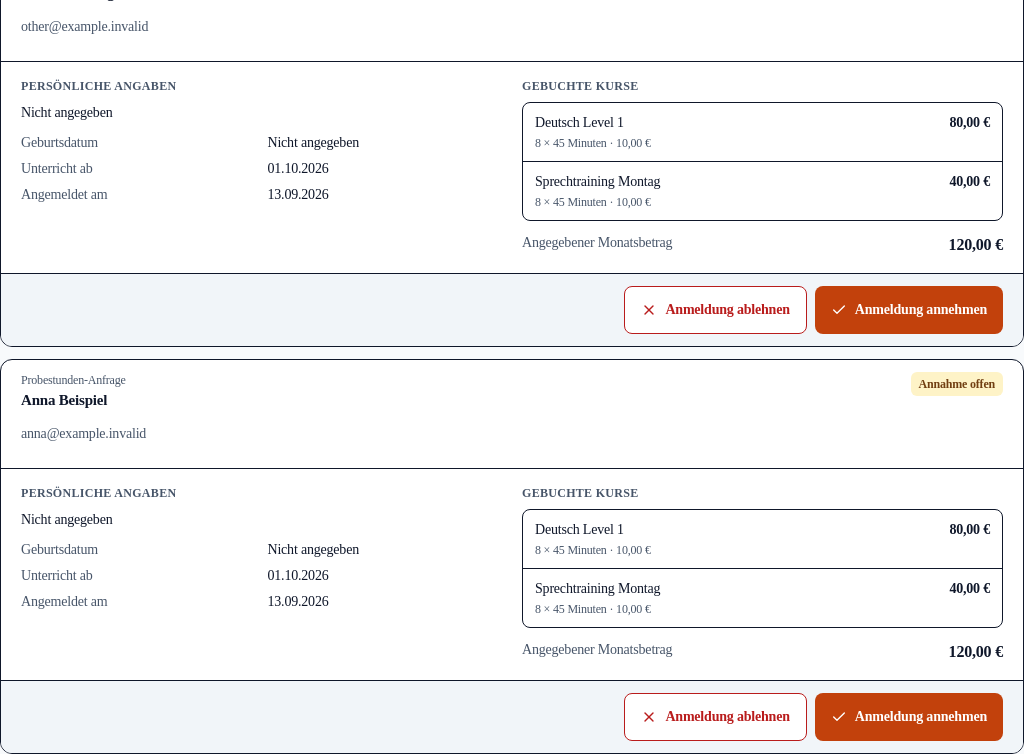
identifies the pending request and never declines when cancelled (trial=true)
(page scrolled)
What coordinates should you click on to do the following:
click the 2nd button "Anmeldung ablehnen"
I would click on:
 (716, 717)
Its box is 624,693 -> 807,741.
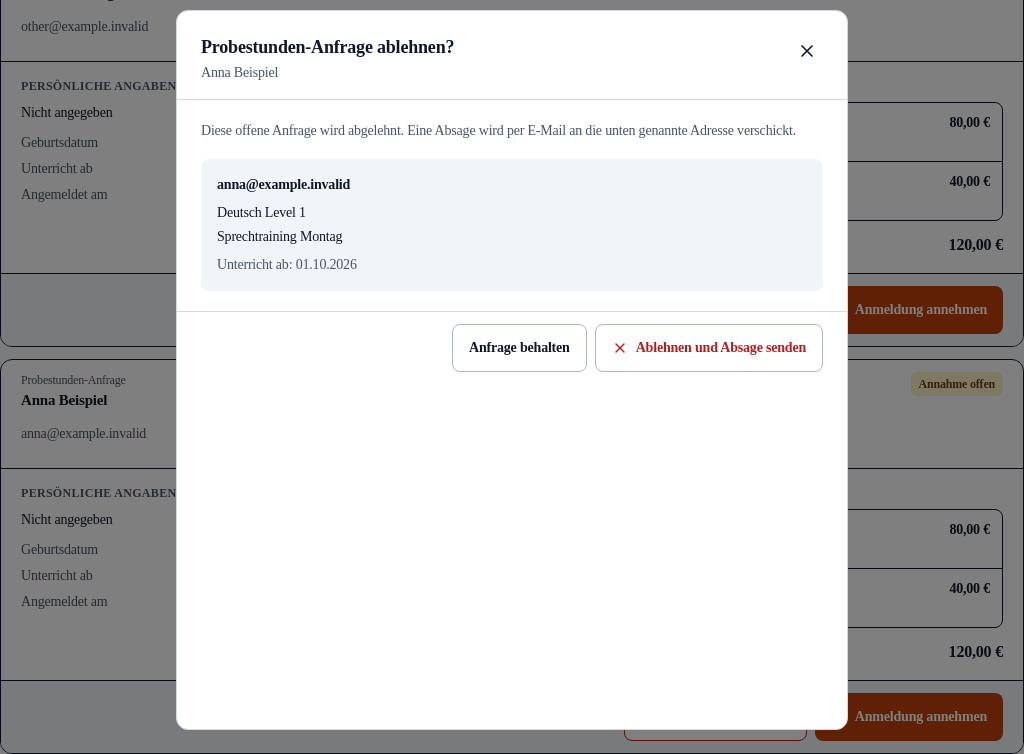
Check: the heading "Probestunden-Anfrage ablehnen?" is shown, box 201,33 -> 454,61
Check: the text "Anna Beispiel" is shown, box 201,65 -> 278,80
Check: the text "anna@example.invalid" is shown, box 217,177 -> 350,192
What coordinates should you click on to do the following:
click the button "Anfrage behalten"
I would click on:
 (519, 348)
Its box is 452,324 -> 587,372.
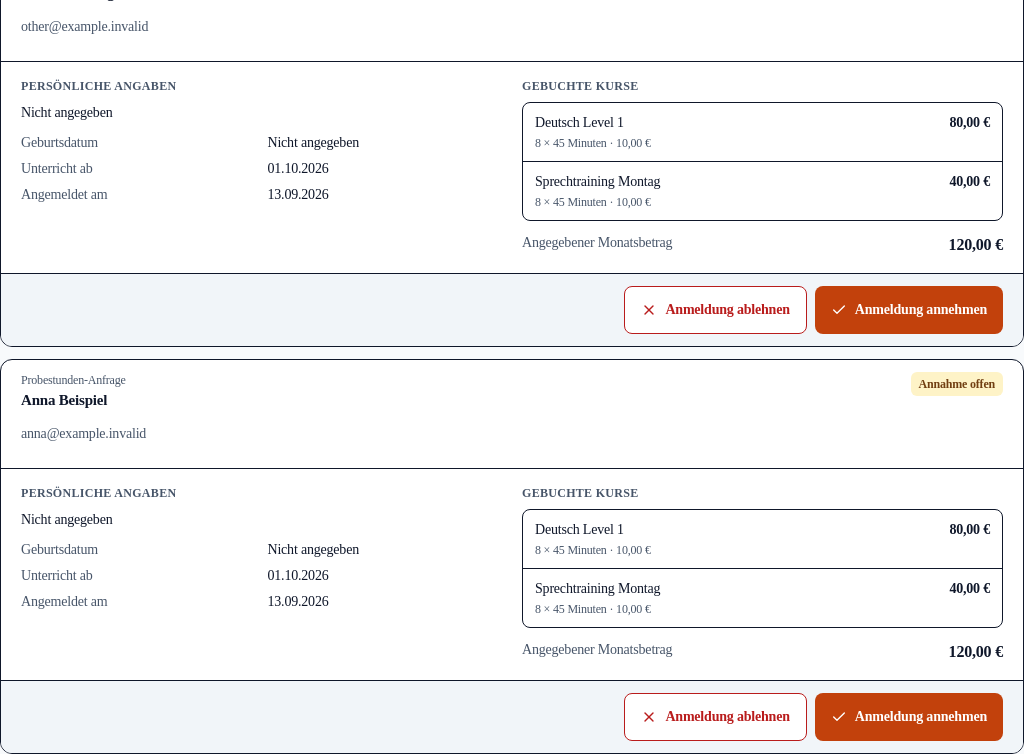
Check: the text "Annahme offen" in the row of "Probestunden-Anfrage" is shown, box 919,377 -> 995,391
Check: the dialog is gone
